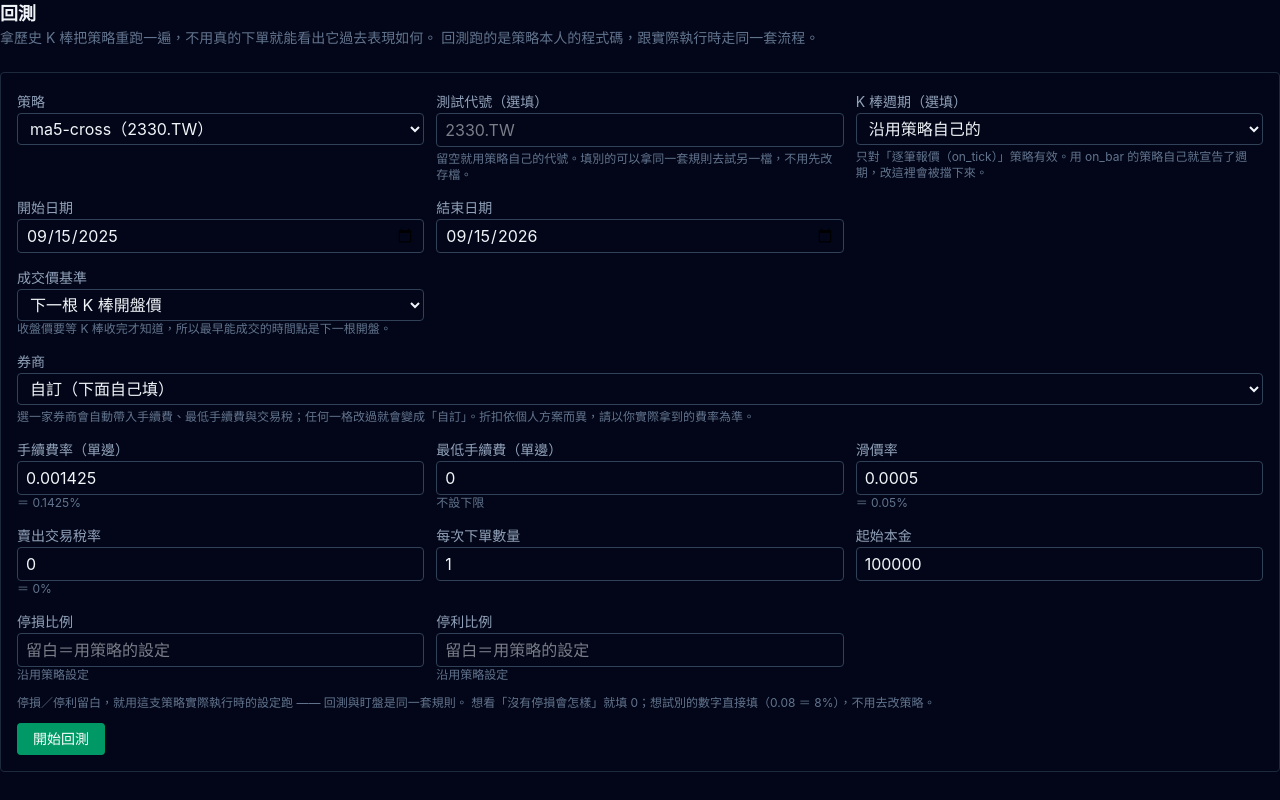
BacktestPage › shows the backend refusal verbatim when the range is too large
Click the button "開始回測".
click(61, 739)  # box x1=17 y1=723 x2=105 y2=755
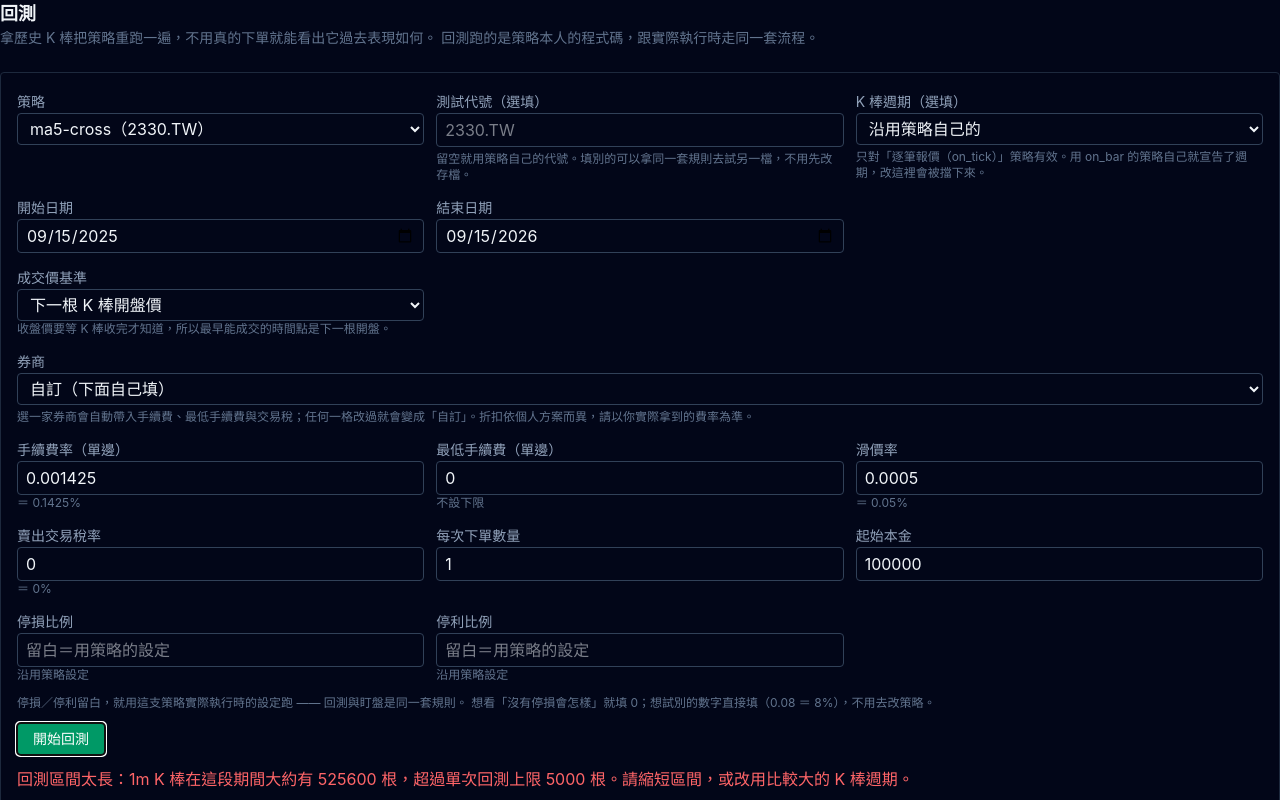
Result: the text "超過單次回測上限 5000 根" is shown at x1=17 y1=769 x2=914 y2=789
